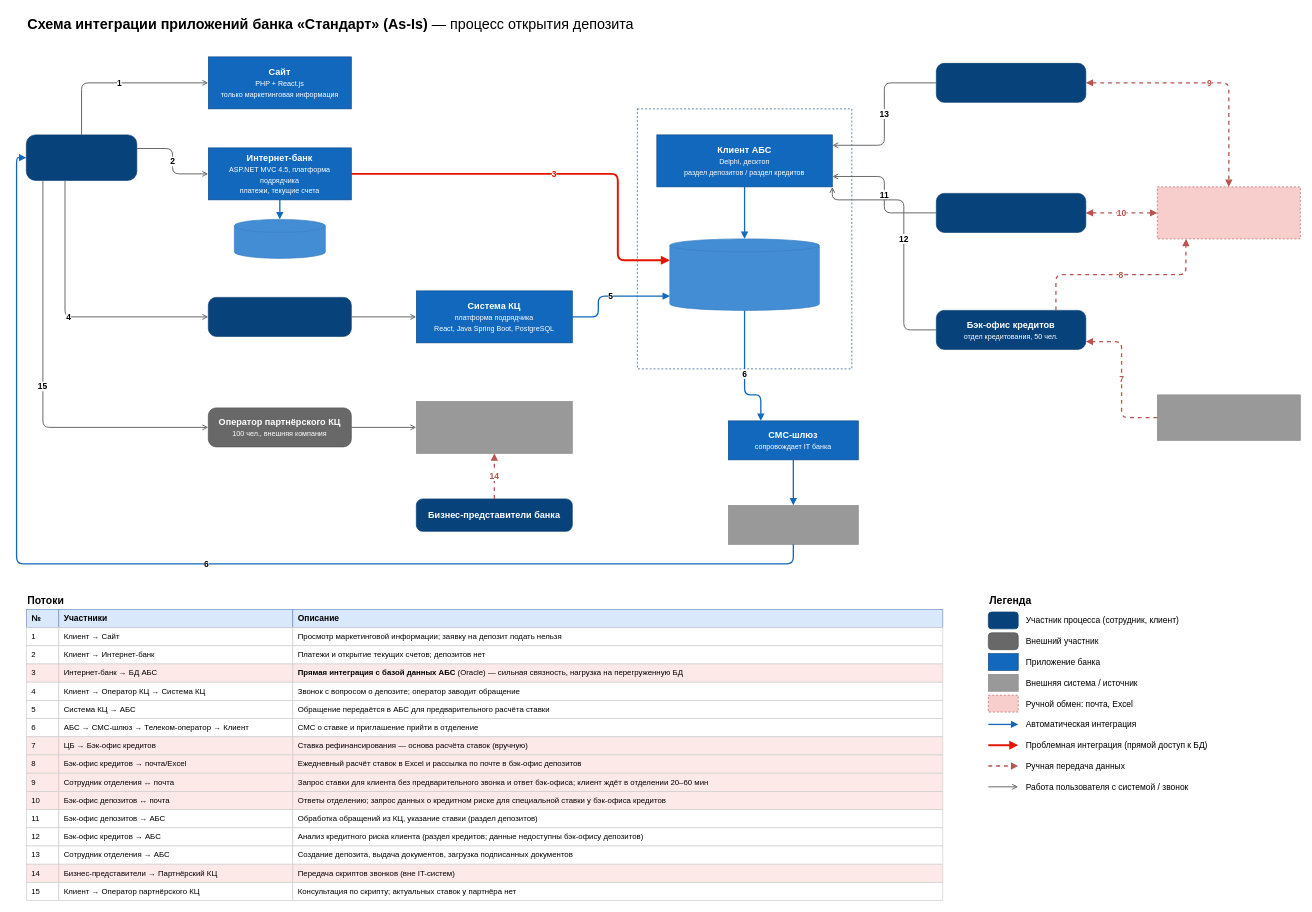
The diagram is 1312 pixels wide and 912 high, and some of its shapes have lost their labels. Each missing label, with the box of its shape:
АБС · команда АБС: (637, 108, 852, 369)
БД АБС Oracle, логика на PL/SQL учёт счетов, бухгалтерия, заявки: (669, 238, 819, 310)
БД ИБ MS SQL: (234, 219, 325, 258)
Бэк-офис депозитов 50 чел.: (936, 193, 1086, 232)
Клиент в основном старшего возраста: (26, 134, 137, 180)
Оператор КЦ банка 200 чел.: (208, 297, 351, 336)
Система партнёрского КЦ внешняя, не интегрирована: (416, 401, 572, 453)
Сотрудник отделения фронт-офис, 500 чел.: (936, 63, 1086, 102)
Телеком-оператор внешний: (728, 505, 858, 544)
ЦБ: ставка рефинансирования внешний источник: (1157, 394, 1300, 440)
Электронная почта + Excel ставки, запросы и ответы (ручной процесс): (1157, 186, 1300, 239)
